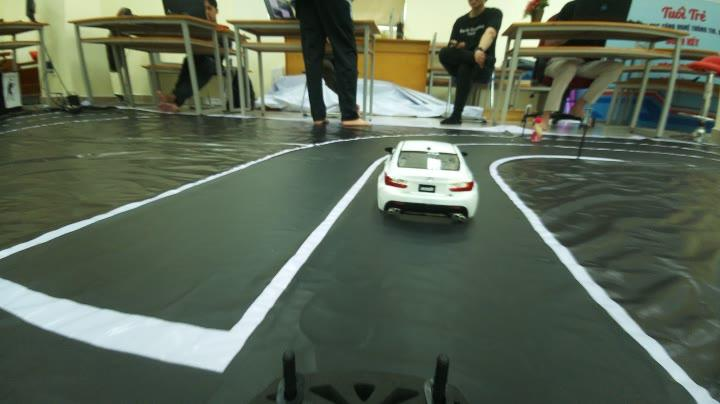car: (371, 130, 493, 223)
